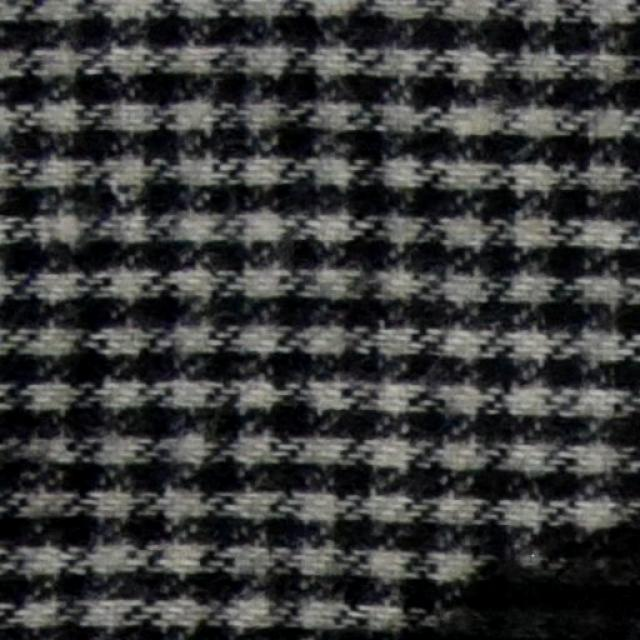Stain: (236, 504, 639, 640)
